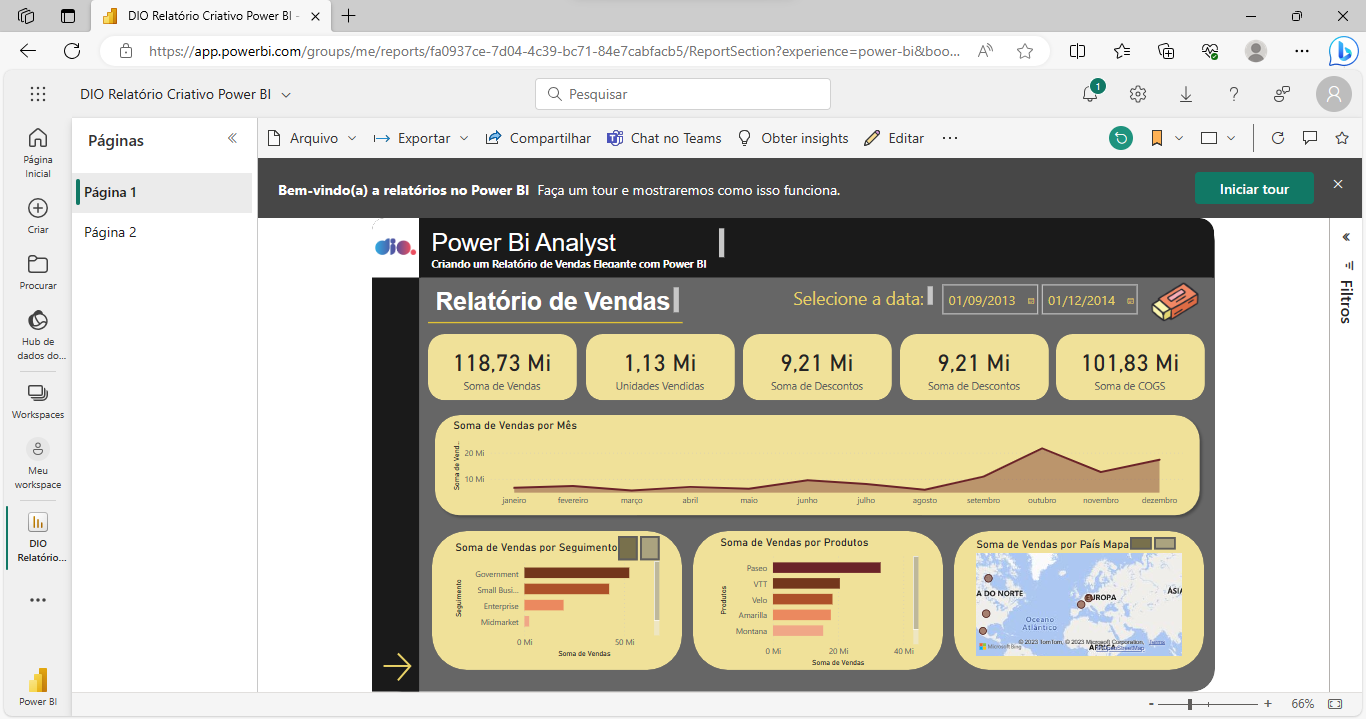

The dashboard page shown, as its layout file describes it:
{"tool":"powerbi","page":{"name":"Página 1","canvas":[1280,720],"ordinal":0},"visuals":[{"type":"group","id":"g1","title":"Fundo","box":[0,0,1280,719.7],"z":0},{"type":"shape","box":[10.1,0,1269.9,719.7],"z":0,"group":"g1"},{"type":"textbox","box":[634.7,98.5,221.5,42.2],"z":0,"group":"g3"},{"type":"shape","box":[84.4,175.8,226.5,100.7],"z":0,"group":"g2"},{"type":"shape","title":"Sales Seguimento Bar","box":[91.4,474.7,379.8,211],"z":0,"group":"g5"},{"type":"map","title":"Soma de  Vendas por País Mapa","fields":{"Size":["Sum(financials. Sales)"],"Category":["financials.Country"]},"box":[912.5,485.3,321.8,186.4],"z":0,"group":"g4"},{"type":"shape","box":[0,0,72.1,719.7],"z":1000,"group":"g1"},{"type":"actionButton","box":[1169.2,89.7,96.7,80.9],"z":1000,"group":"g3"},{"type":"group","id":"g2","title":"Cartões","box":[84.4,175.8,1181,100.7],"z":1000},{"type":"shape","box":[324.3,175.8,226.5,100.7],"z":1000,"group":"g2"},{"type":"clusteredBarChart","fields":{"Y":["Sum(financials. Sales)"],"Category":["financials.Segment"]},"box":[121.3,488.8,320,182.9],"z":1000,"group":"g5"},{"type":"shape","box":[0,0,72.1,90.6],"z":2000,"group":"g1"},{"type":"slicer","fields":{"Values":["financials.Date"]},"box":[852.7,91.5,316.5,66.8],"z":2000,"group":"g3"},{"type":"shape","box":[84.4,140.7,386.8,35.2],"z":2000},{"type":"shape","box":[562.5,175.8,226.5,100.7],"z":2000,"group":"g2"},{"type":"actionButton","title":"Botão Map","box":[1151.6,485.3,33.4,19.3],"z":2000,"group":"g4"},{"type":"image","title":"DIO","box":[0,6.7,72.1,75.5],"z":3000,"group":"g1"},{"type":"textbox","box":[91.4,100.2,379.8,58],"z":3000},{"type":"shape","box":[800.7,175.8,226.5,100.7],"z":3000,"group":"g2"},{"type":"actionButton","title":"Botão Bar","box":[374.5,481.7,29.9,36.9],"z":3000,"group":"g5"},{"type":"actionButton","title":"Botão Tremap","box":[1186.8,485.3,33.4,19.3],"z":3000,"group":"g4"},{"type":"shape","box":[72.1,0,1207.9,90.6],"z":4000,"group":"g1"},{"type":"shape","box":[1038.9,175.8,226.5,100.7],"z":4000,"group":"g2"},{"type":"shape","box":[86.2,290.1,1179.8,170.5],"z":4000},{"type":"actionButton","title":"Botão Pie","box":[407.9,481.7,29.9,36.9],"z":4000,"group":"g5"},{"type":"textbox","box":[84.4,10.5,455.4,70.3],"z":5000,"group":"g1"},{"type":"card","fields":{"Values":["Sum(financials. Sales)"]},"box":[94.3,186.7,205.7,79.1],"z":5000,"group":"g2"},{"type":"shape","box":[487,474.7,379.8,211],"z":5000},{"type":"group","id":"g3","title":"Data Botões","box":[634.7,89.7,631.2,80.9],"z":6000,"group":"g1"},{"type":"card","fields":{"Values":["Sum(financials.COGS)"]},"box":[1047.9,186.3,205.7,79.1],"z":6000,"group":"g2"},{"type":"shape","box":[884.4,474.7,379.8,211],"z":6000},{"type":"image","title":"Borracha","box":[1176.3,80.9,87.9,93.2],"z":7000},{"type":"card","fields":{"Values":["Sum(financials.Discounts)"]},"box":[810.6,186.3,205.7,79.1],"z":7000,"group":"g2"},{"type":"card","fields":{"Values":["Sum(financials.Discounts)"]},"box":[571.4,186.3,205.7,79.1],"z":8000,"group":"g2"},{"type":"areaChart","fields":{"Category":["financials.Date.Variation.Hierarquia de datas.Mês"],"Y":["Sum(financials. Sales)"]},"box":[117.8,304.2,1118.2,142.4],"z":8000},{"type":"card","fields":{"Values":["Sum(financials.Units Sold)"]},"box":[334.1,186.3,205.7,79.1],"z":9000,"group":"g2"},{"type":"clusteredBarChart","fields":{"Y":["Sum(financials. Sales)"],"Category":["financials.Product"]},"box":[524,481.8,311.2,204],"z":9000},{"type":"group","id":"g4","title":"Vendas por País","box":[912.5,485.3,321.8,189.9],"z":10000},{"type":"group","id":"g5","title":"Vendas Seguimentos","box":[91.4,474.7,379.8,211],"z":11000},{"type":"actionButton","box":[10.5,654.1,61.5,54.5],"z":12000}]}

Visuals, with their boxes on the page's 1280x720 design canvas (x1, y1, x2, y2). These are canvas units, not pixel positions in the 1366x719 screenshot, which may show the page scaled, cropped or inside an application window:
"Fundo" group: select_region(0, 0, 1280, 720)
shape: select_region(10, 0, 1280, 720)
textbox: select_region(635, 98, 856, 141)
shape: select_region(84, 176, 311, 276)
"Sales Seguimento Bar" shape: select_region(91, 475, 471, 686)
"Soma de  Vendas por País Mapa" map: select_region(912, 485, 1234, 672)
shape: select_region(0, 0, 72, 720)
actionButton: select_region(1169, 90, 1266, 171)
"Cartões" group: select_region(84, 176, 1265, 276)
shape: select_region(324, 176, 551, 276)
clusteredBarChart - Sum(financials. Sales) x financials.Segment: select_region(121, 489, 441, 672)
shape: select_region(0, 0, 72, 91)
slicer - financials.Date: select_region(853, 92, 1169, 158)
shape: select_region(84, 141, 471, 176)
shape: select_region(562, 176, 789, 276)
"Botão Map" actionButton: select_region(1152, 485, 1185, 505)
"DIO" image: select_region(0, 7, 72, 82)
textbox: select_region(91, 100, 471, 158)
shape: select_region(801, 176, 1027, 276)
"Botão Bar" actionButton: select_region(374, 482, 404, 519)
"Botão Tremap" actionButton: select_region(1187, 485, 1220, 505)
shape: select_region(72, 0, 1280, 91)
shape: select_region(1039, 176, 1265, 276)
shape: select_region(86, 290, 1266, 461)
"Botão Pie" actionButton: select_region(408, 482, 438, 519)
textbox: select_region(84, 10, 540, 81)
card - Sum(financials. Sales): select_region(94, 187, 300, 266)
shape: select_region(487, 475, 867, 686)
"Data Botões" group: select_region(635, 90, 1266, 171)
card - Sum(financials.COGS): select_region(1048, 186, 1254, 265)
shape: select_region(884, 475, 1264, 686)
"Borracha" image: select_region(1176, 81, 1264, 174)
card - Sum(financials.Discounts): select_region(811, 186, 1016, 265)
card - Sum(financials.Discounts): select_region(571, 186, 777, 265)
areaChart - financials.Date.Variation.Hierarquia de datas.Mês x Sum(financials. Sales): select_region(118, 304, 1236, 447)
card - Sum(financials.Units Sold): select_region(334, 186, 540, 265)
clusteredBarChart - Sum(financials. Sales) x financials.Product: select_region(524, 482, 835, 686)
"Vendas por País" group: select_region(912, 485, 1234, 675)
"Vendas Seguimentos" group: select_region(91, 475, 471, 686)
actionButton: select_region(10, 654, 72, 709)
